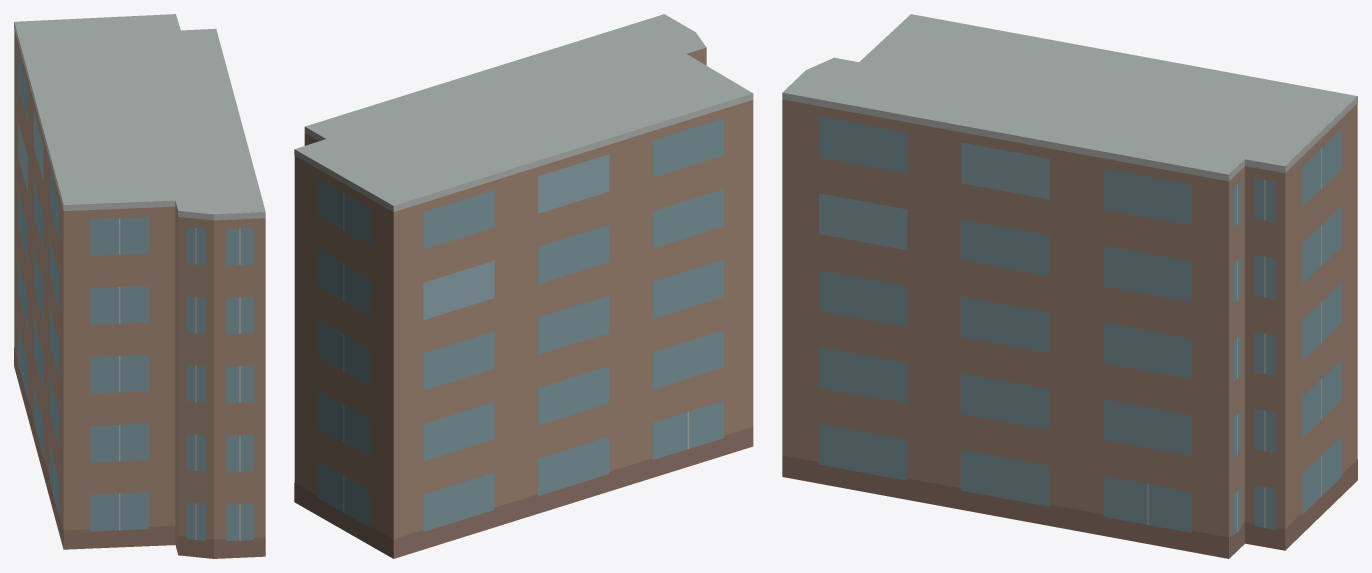
The model's file is survey-upis-32616347.glb.
The picture shows the model from 3 angles, left to right: view 1: azimuth 30°, elevation 25°; view 2: azimuth 150°, elevation 25°; view 3: azimuth 270°, elevation 25°; orthographic projection. The views are drawn at different scales.
Visible parts, largest first — view 1: survey-upis-32616347.tmp; view 2: survey-upis-32616347.tmp; view 3: survey-upis-32616347.tmp.
Boxes of the visible parts, left/top/right/bottom form: survey-upis-32616347.tmp: left=14, top=14, right=265, bottom=558; survey-upis-32616347.tmp: left=294, top=14, right=753, bottom=558; survey-upis-32616347.tmp: left=782, top=14, right=1357, bottom=558.
Bounding box in the file's own units: 12.48 × 13.9 × 18.88.
